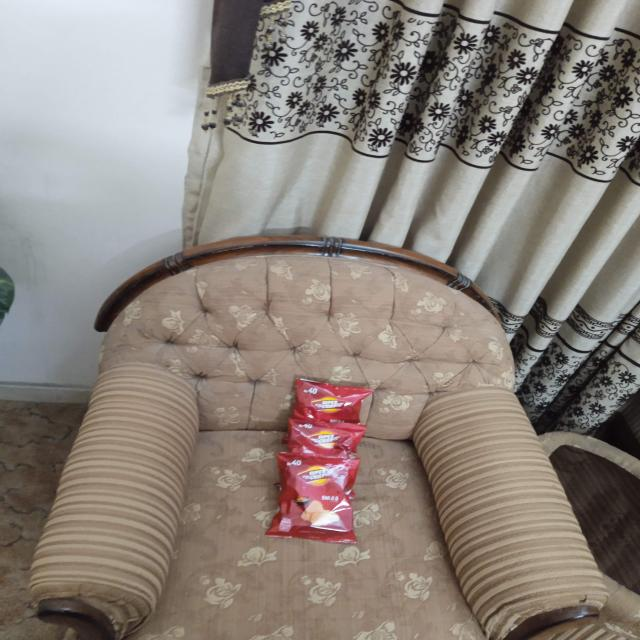Plastic: (277, 452, 357, 540), (298, 376, 370, 418), (298, 420, 366, 456)
